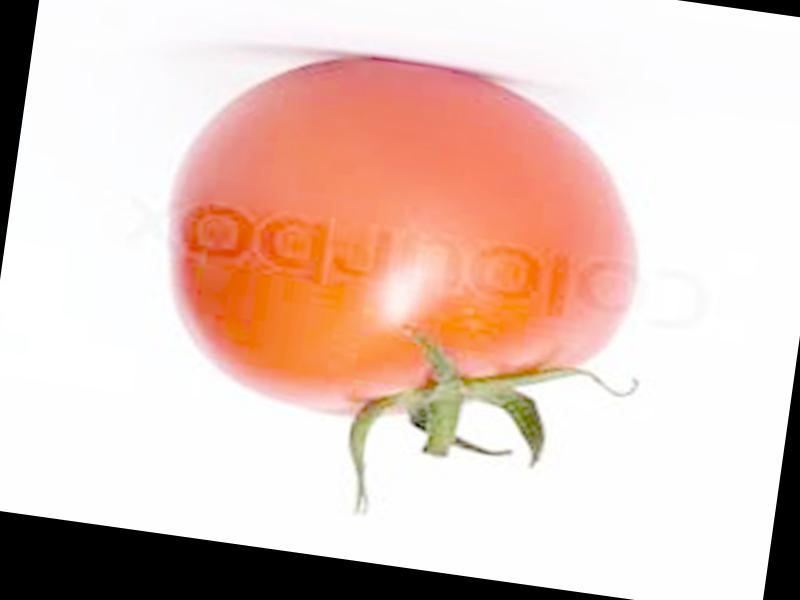Tomato: (145, 36, 656, 454)
